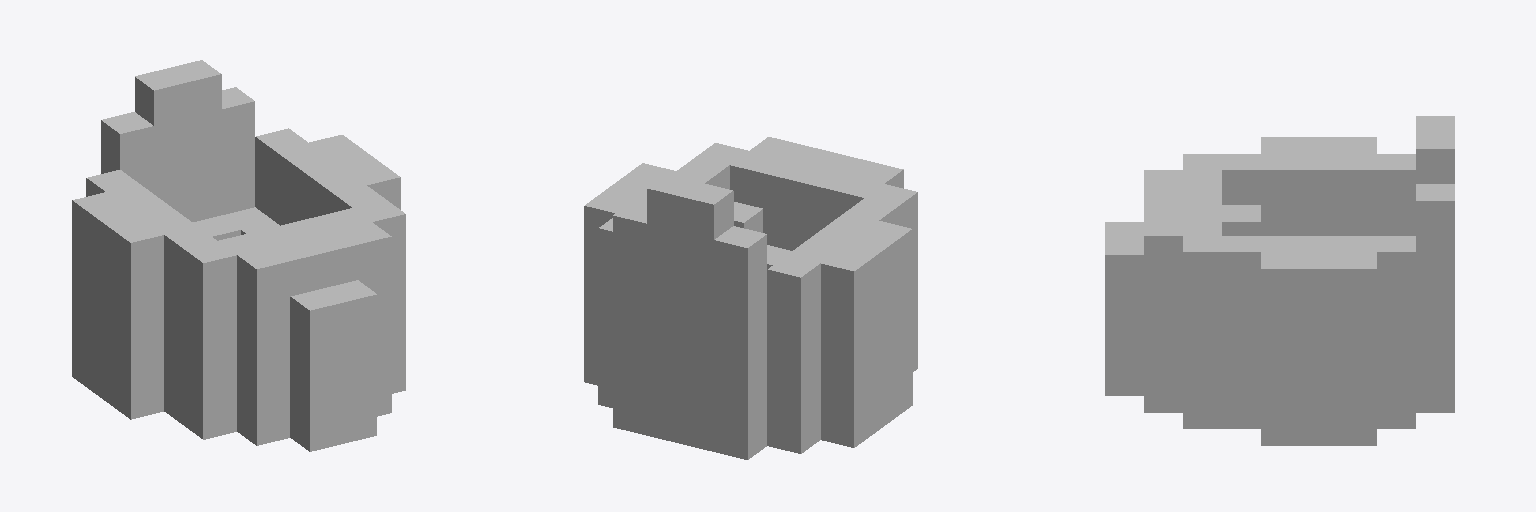
File: obj_pot.obj
3 views of the same model, side by side, from view 1: azimuth 30°, elevation 25°; view 2: azimuth 150°, elevation 25°; view 3: azimuth 270°, elevation 25° (orthographic).
Visible parts, largest first — view 1: obj_pot; view 2: obj_pot; view 3: obj_pot.
Boxes of the visible parts, x1=… form: obj_pot: x1=72, y1=60, x2=405, y2=451; obj_pot: x1=584, y1=137, x2=917, y2=459; obj_pot: x1=1105, y1=116, x2=1454, y2=445.
Bounding box in the file's own units: 8 × 7 × 9.